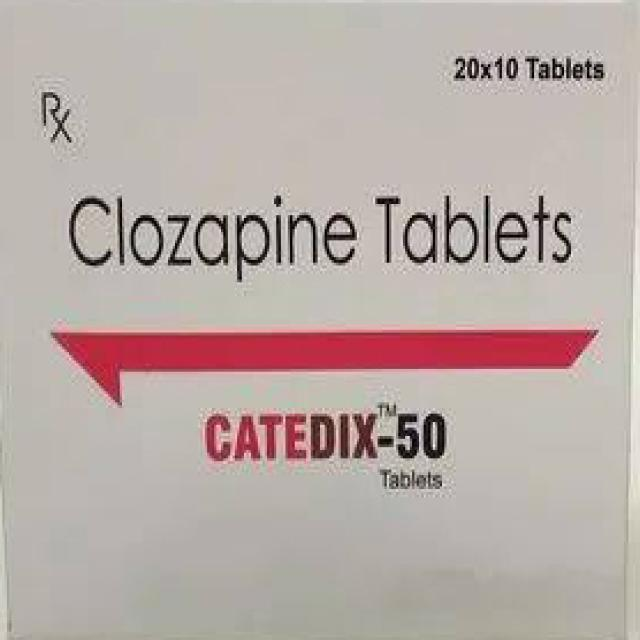drug-name: (203, 399, 450, 467)
